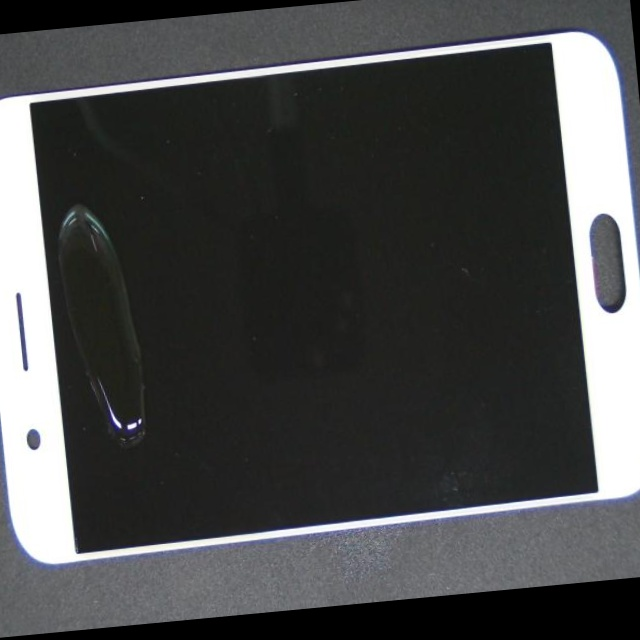oil: (40, 267, 248, 612)
